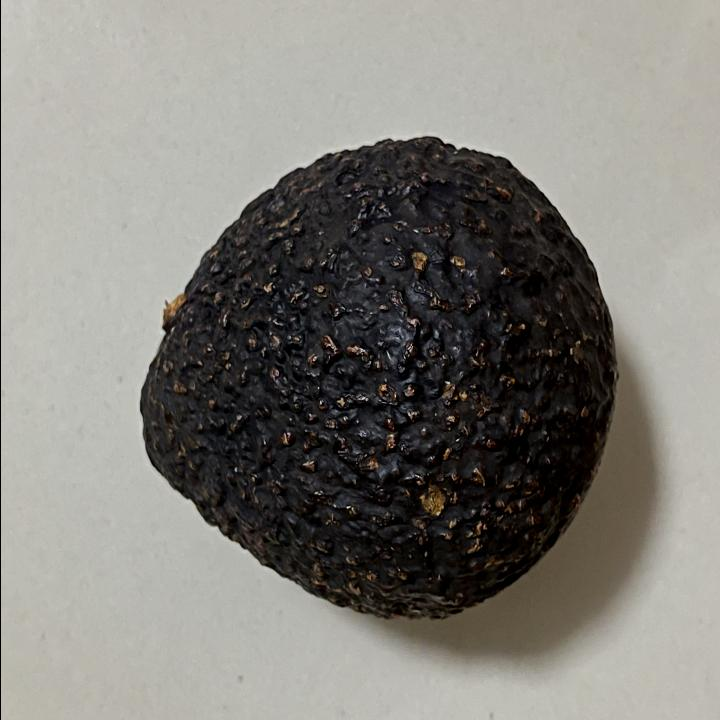Level3: (127, 126, 624, 632)
